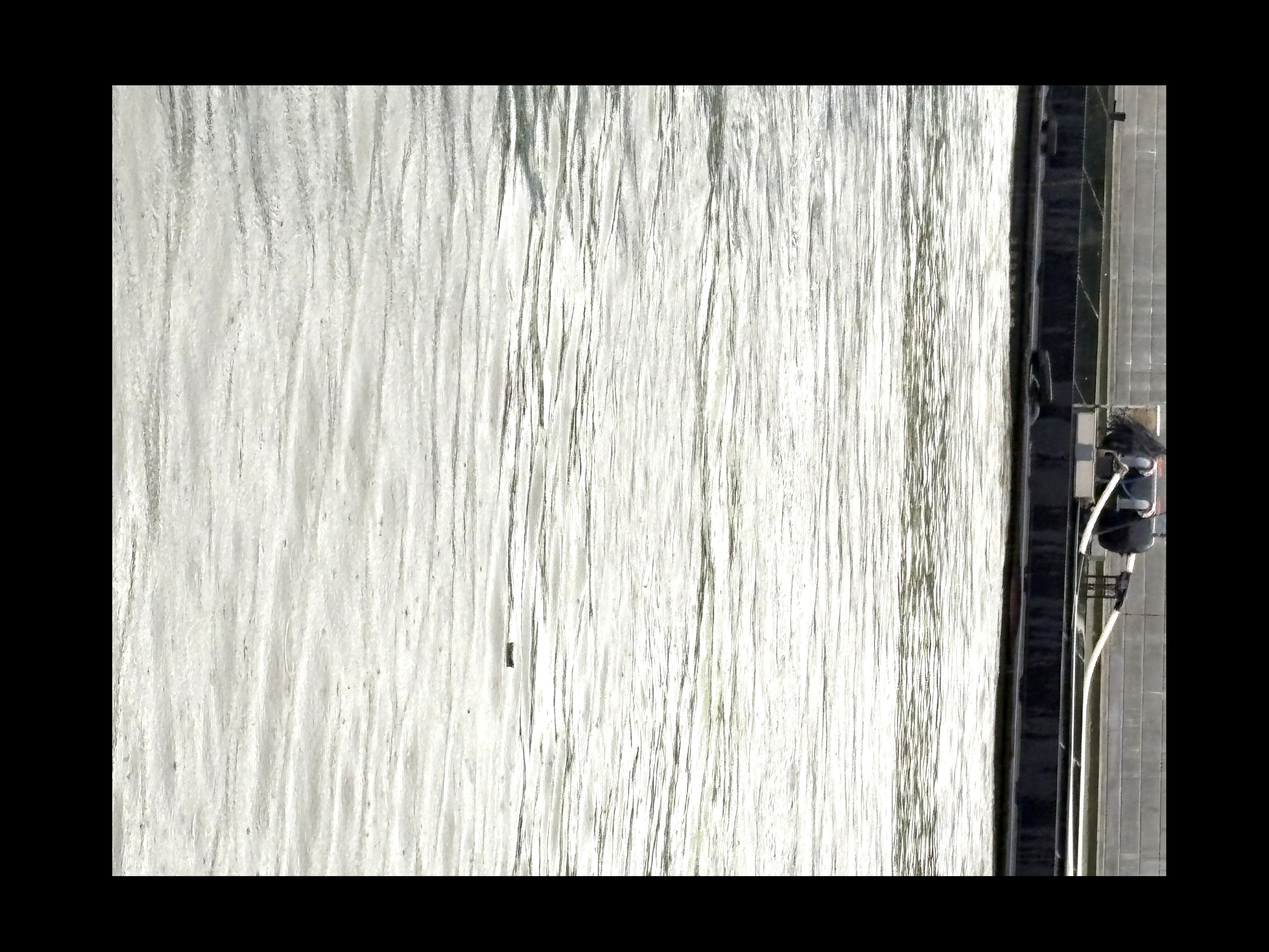Plastic wastes: (924, 347, 943, 412), (896, 624, 904, 645)
